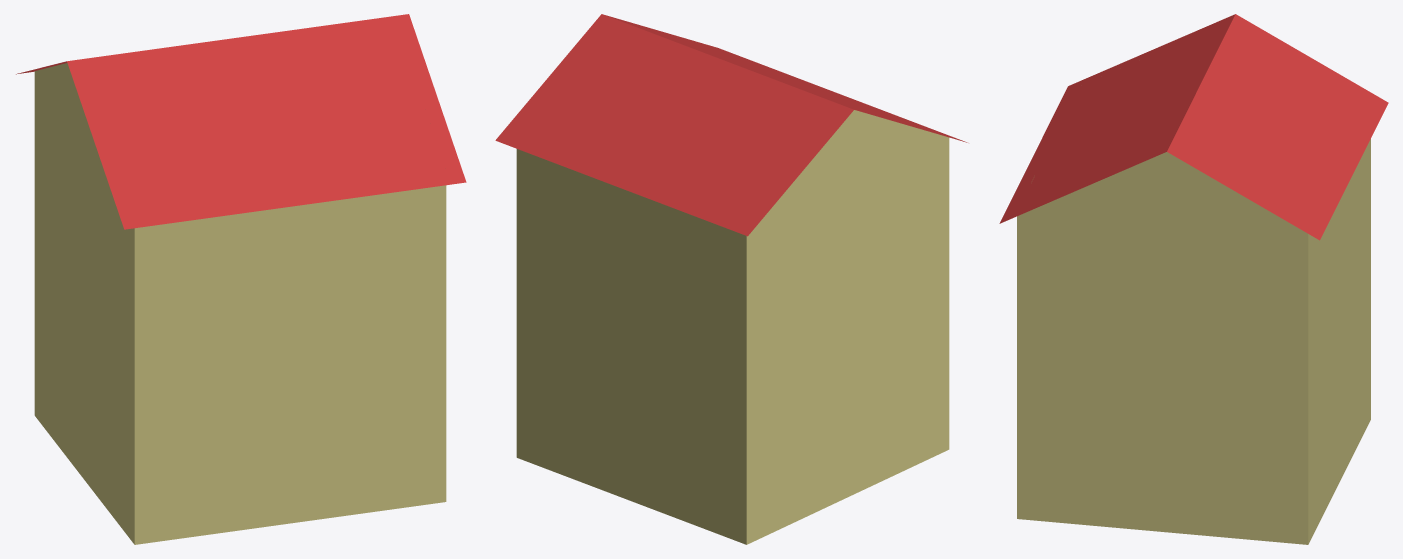
The picture shows the model from 3 angles, left to right: view 1: azimuth 30°, elevation 25°; view 2: azimuth 150°, elevation 25°; view 3: azimuth 270°, elevation 25°; orthographic projection. The views are drawn at different scales.
Visible parts, largest first — view 1: group_5, group_3, group_4; view 2: group_5, group_3, group_4; view 3: group_5, group_3, group_4.
Boxes of the visible parts, bbox=[...] form: group_5: bbox=[34, 63, 446, 544]; group_3: bbox=[67, 14, 445, 227]; group_4: bbox=[16, 14, 466, 229]; group_5: bbox=[516, 110, 949, 544]; group_3: bbox=[496, 14, 947, 236]; group_4: bbox=[495, 14, 967, 157]; group_5: bbox=[1017, 139, 1370, 544]; group_3: bbox=[1017, 14, 1388, 239]; group_4: bbox=[999, 14, 1326, 240].
Size of the model in its own units: 13.17 by 13.02 by 14.28.
